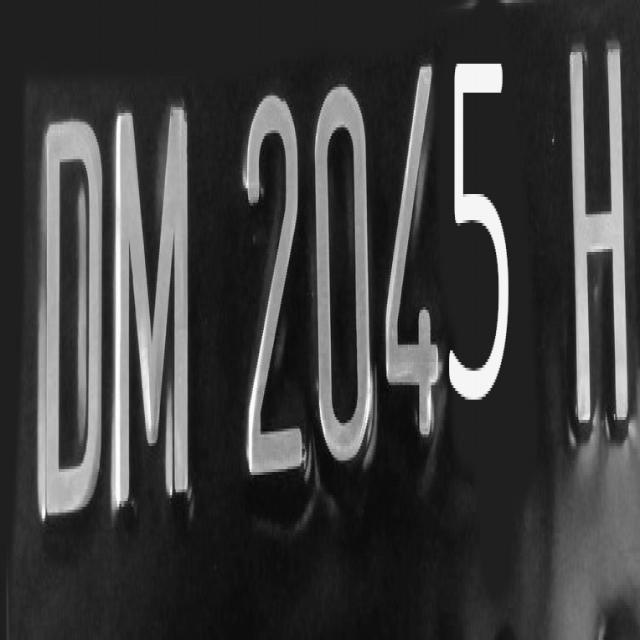0: (308, 82, 368, 491)
2: (236, 80, 306, 494)
4: (378, 60, 448, 448)
5: (446, 60, 512, 416)
D: (33, 114, 110, 518)
H: (560, 40, 640, 438)
M: (109, 106, 205, 512)
